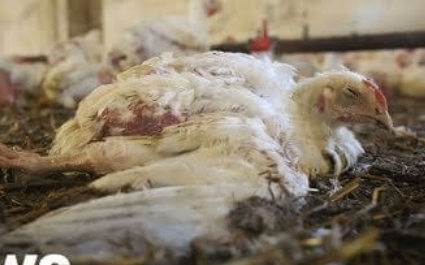Unhealthy: (1, 49, 424, 207)
